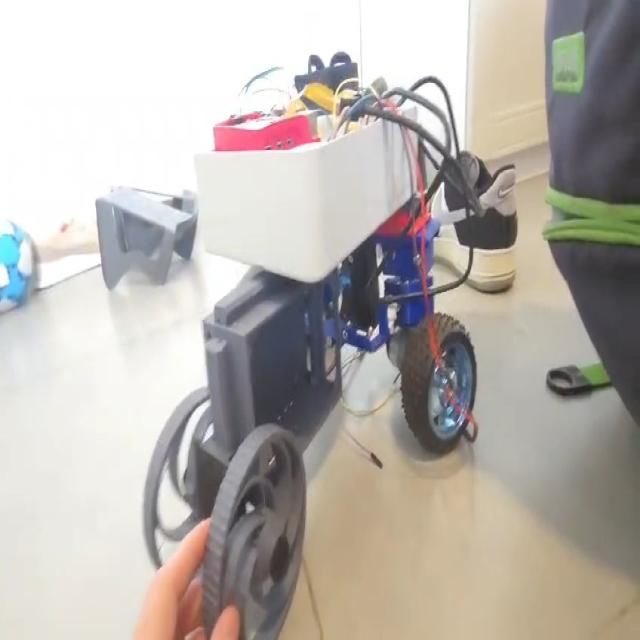Robot: (138, 72, 492, 635)
